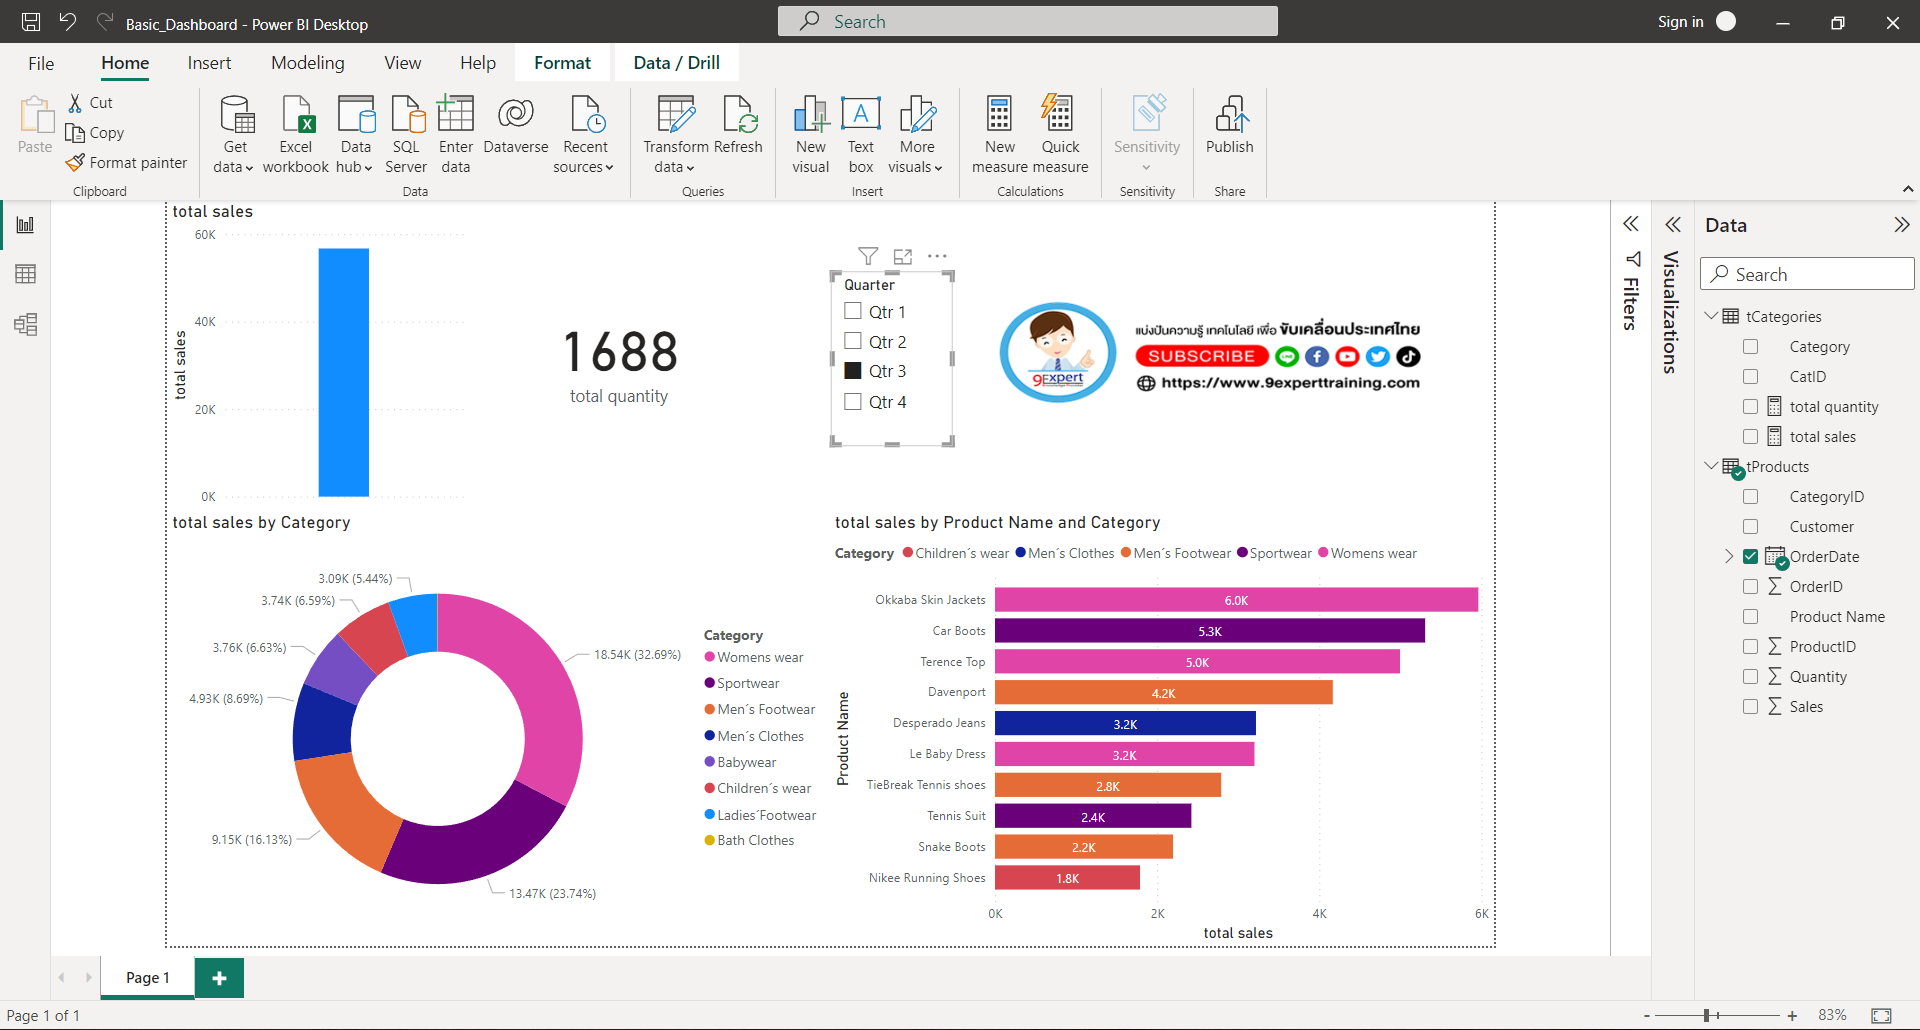

Layout of this report page (visuals, bound fields, positions):
{"tool":"powerbi","page":{"name":"Page 1","canvas":[1280,720],"ordinal":0},"visuals":[{"type":"columnChart","fields":{"Y":["tCategories.total sales"]},"box":[0,0,291.9,300.3],"z":0},{"type":"card","fields":{"Values":["tCategories.total quantity"]},"box":[291.9,0,288.2,300.3],"z":1000},{"type":"donutChart","fields":{"Y":["tCategories.total sales"],"Category":["tCategories.Category"]},"box":[0,300.5,640.8,419.9],"z":2000},{"type":"slicer","fields":{"Values":["tProducts.OrderDate.Variation.Date Hierarchy.Quarter"]},"box":[640.8,68.6,118,168.8],"z":3000},{"type":"barChart","fields":{"Category":["tProducts.Product Name"],"Y":["tCategories.total sales"],"Series":["tCategories.Category"]},"box":[639.5,300.5,640.8,419.9],"z":4000},{"type":"image","box":[759,69,521,169],"z":5000}]}

Visuals, with their boxes on the page's 1280x720 design canvas (x1, y1, x2, y2). These are canvas units, not pixel positions in the 1920x1030 screenshot, which may show the page scaled, cropped or inside an application window:
columnChart - tCategories.total sales: pyautogui.locateOnScreen(0, 0, 292, 300)
card - tCategories.total quantity: pyautogui.locateOnScreen(292, 0, 580, 300)
donutChart - tCategories.total sales x tCategories.Category: pyautogui.locateOnScreen(0, 300, 641, 720)
slicer - tProducts.OrderDate.Variation.Date Hierarchy.Quarter: pyautogui.locateOnScreen(641, 69, 759, 237)
barChart - tProducts.Product Name x tCategories.total sales: pyautogui.locateOnScreen(640, 300, 1280, 720)
image: pyautogui.locateOnScreen(759, 69, 1280, 238)
